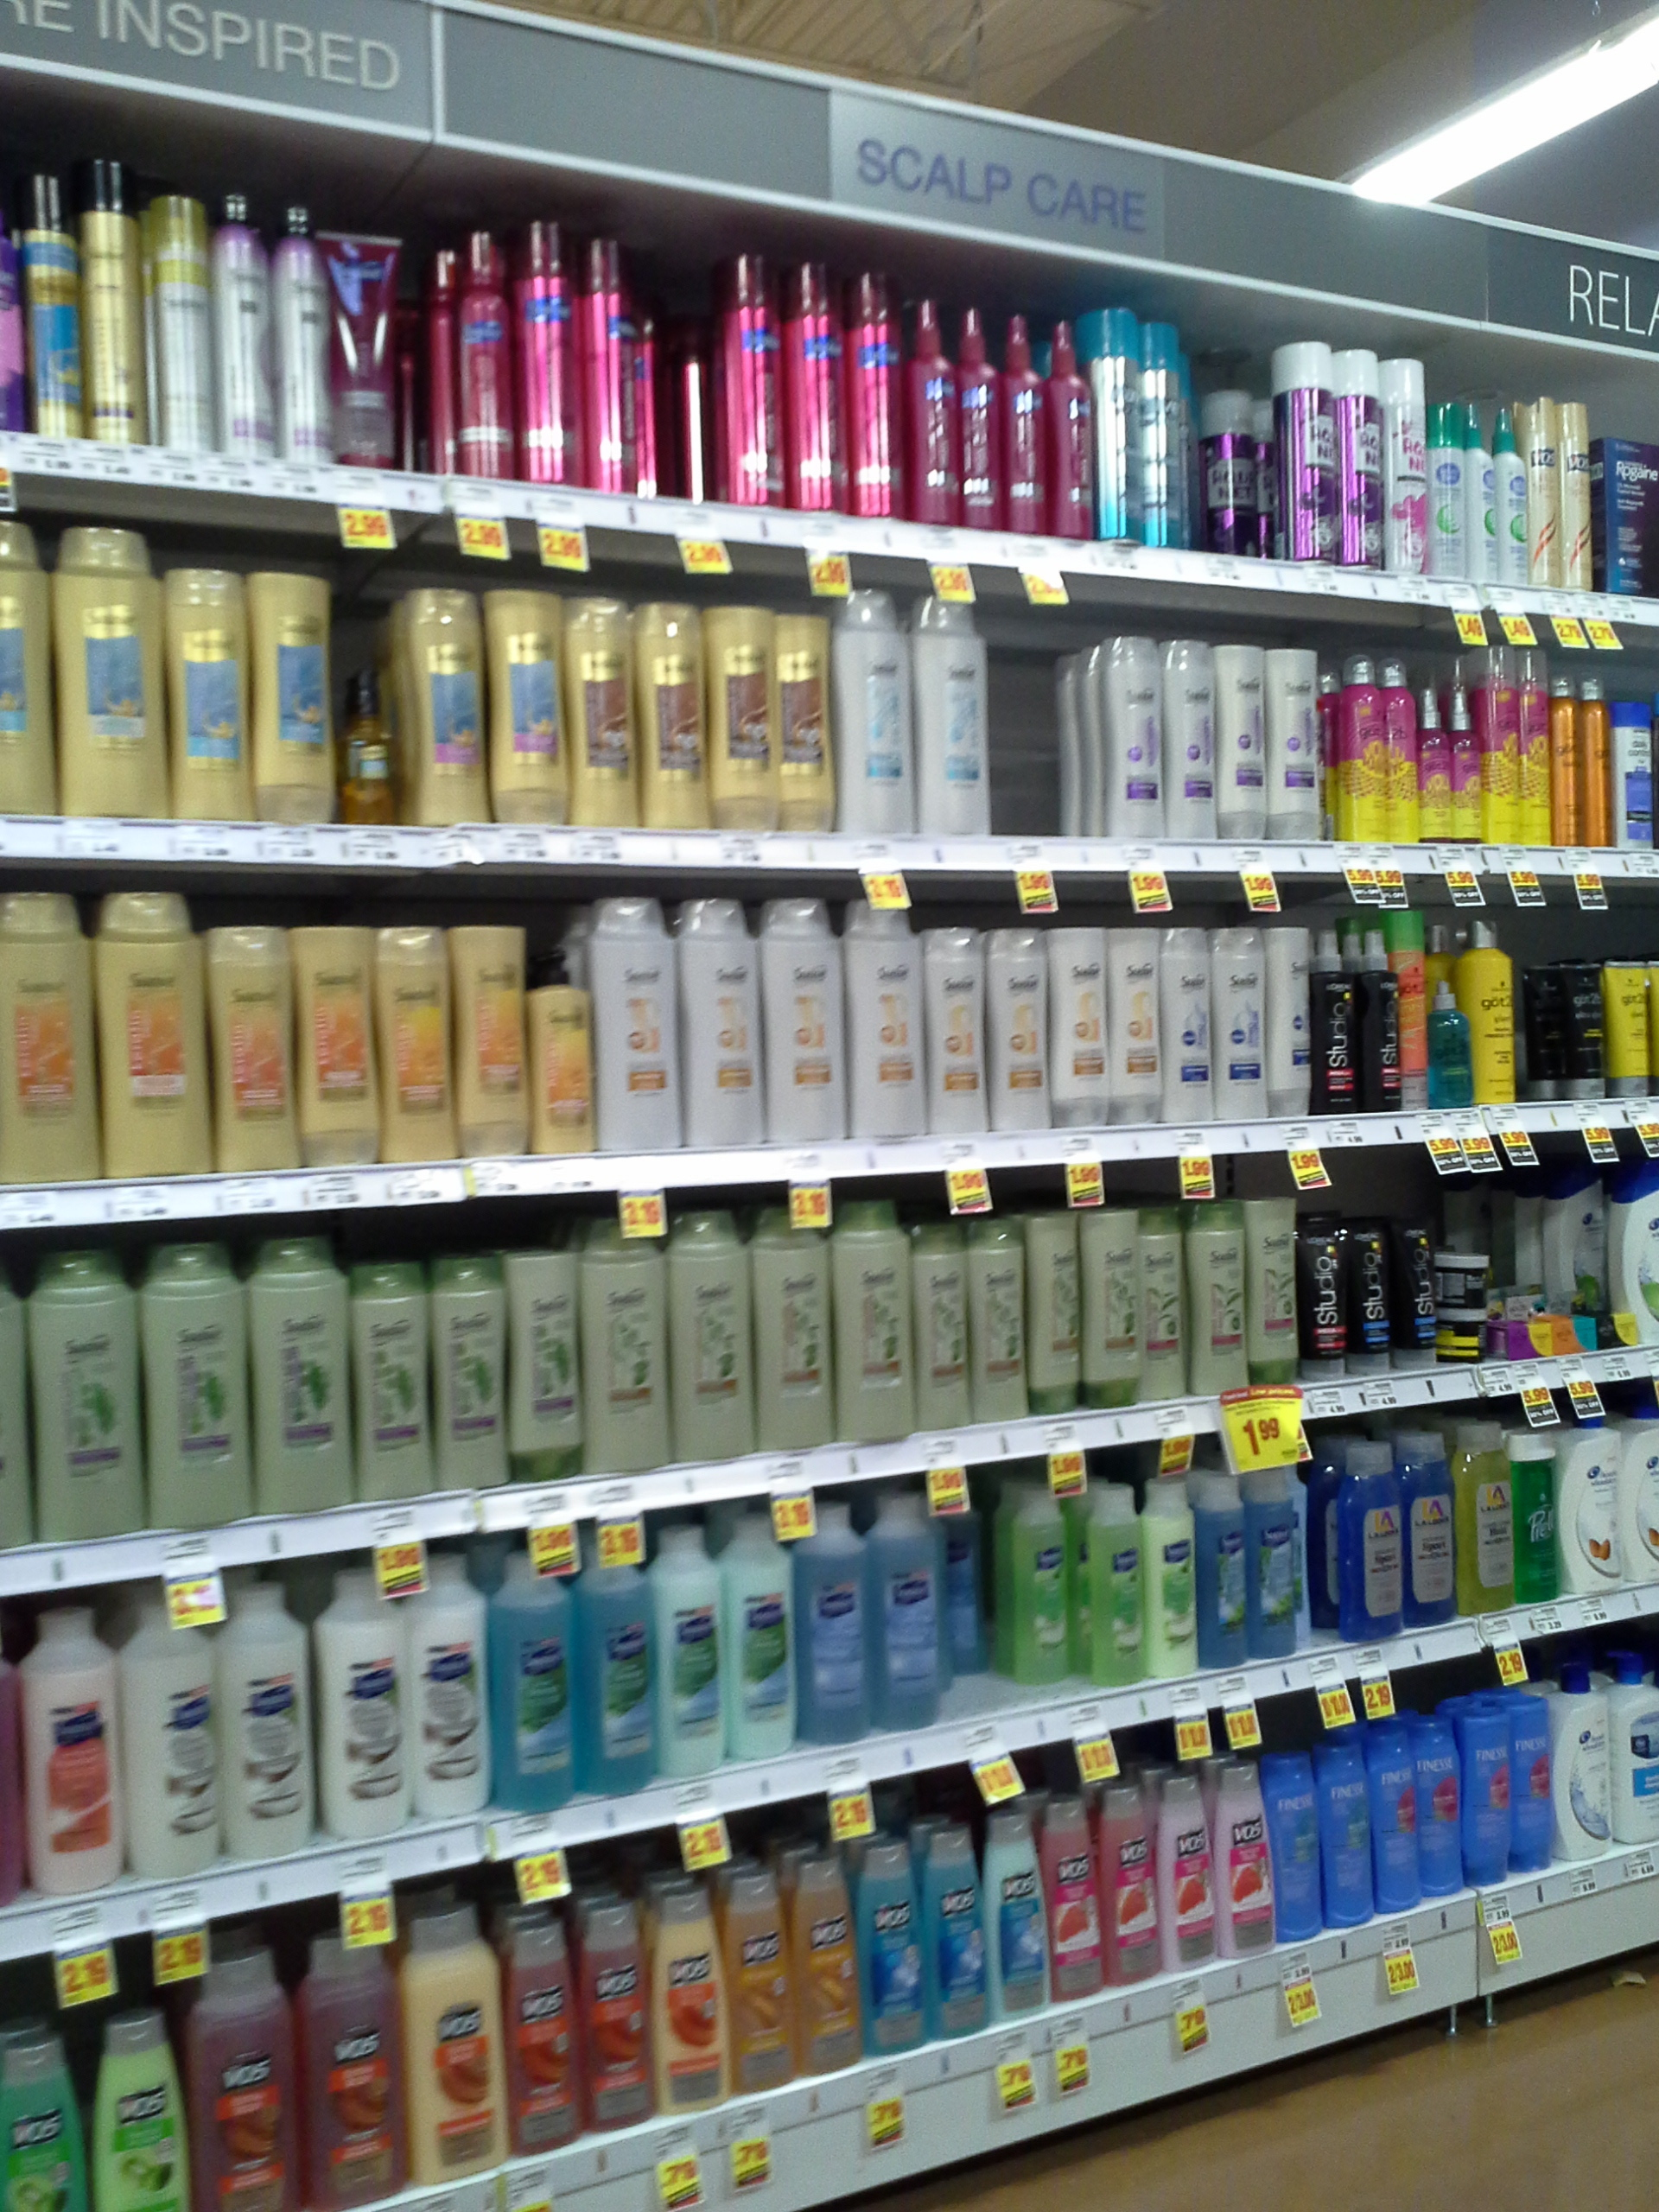product: (96, 885, 206, 1177), (54, 521, 162, 817), (28, 1244, 134, 1533), (139, 1245, 244, 1534), (195, 1949, 305, 2207), (404, 1905, 502, 2191), (19, 1611, 117, 1895), (249, 1244, 352, 1507), (0, 888, 91, 1184), (118, 1599, 209, 1892), (216, 1594, 314, 1853), (308, 1930, 399, 2195), (486, 1545, 575, 1808), (575, 1224, 673, 1463), (207, 927, 300, 1176), (324, 1568, 403, 1846), (251, 568, 335, 827), (404, 1562, 486, 1825), (598, 895, 680, 1150), (91, 2017, 195, 2212), (836, 583, 917, 836), (840, 897, 925, 1132), (167, 568, 246, 820), (406, 585, 488, 824), (575, 1534, 650, 1794), (864, 1486, 945, 1726), (762, 895, 838, 1144), (714, 251, 789, 505), (718, 1512, 796, 1750), (301, 927, 380, 1162), (685, 895, 758, 1146), (924, 585, 997, 834), (751, 1212, 831, 1439), (430, 1258, 507, 1493), (493, 585, 566, 827), (674, 1216, 746, 1463), (146, 190, 213, 451), (357, 1259, 429, 1501), (831, 1202, 903, 1442), (382, 927, 455, 1160), (579, 1904, 648, 2141), (84, 155, 141, 439), (518, 211, 577, 486), (507, 1912, 577, 2146), (509, 1247, 575, 1491), (570, 594, 640, 826), (457, 923, 525, 1157), (216, 193, 275, 458), (653, 1524, 711, 1789), (333, 230, 397, 465), (640, 601, 704, 831), (657, 1890, 727, 2102), (708, 601, 774, 824), (0, 2036, 85, 2209), (582, 230, 638, 493), (802, 1500, 861, 1745), (0, 521, 49, 819), (849, 268, 906, 521), (791, 256, 847, 516), (997, 1484, 1068, 1686), (1270, 345, 1335, 566), (1075, 1480, 1145, 1683), (275, 206, 331, 456), (457, 223, 512, 474), (857, 1843, 925, 2048), (28, 167, 80, 434), (730, 1871, 789, 2099), (528, 946, 592, 1155), (910, 1217, 972, 1432), (1087, 303, 1143, 542), (793, 1862, 857, 2067), (1042, 1801, 1107, 1998), (986, 923, 1047, 1130), (1148, 1775, 1215, 1965), (775, 608, 831, 831), (1019, 1212, 1082, 1407), (1053, 925, 1112, 1130), (927, 1829, 986, 2031), (988, 1813, 1042, 2033), (927, 927, 985, 1132), (1108, 637, 1164, 843), (1345, 1440, 1403, 1637), (1086, 1209, 1141, 1407), (1561, 1413, 1624, 1588), (1215, 916, 1267, 1123), (1112, 923, 1166, 1123), (1215, 643, 1269, 843), (1199, 387, 1263, 554), (1554, 1667, 1607, 1872), (1455, 1421, 1509, 1613), (1147, 314, 1190, 550), (1270, 644, 1323, 841), (913, 294, 958, 521), (1164, 637, 1215, 840), (1338, 345, 1384, 570), (1352, 918, 1403, 1116), (1192, 1202, 1244, 1393), (1269, 1750, 1321, 1940), (974, 1216, 1019, 1432), (1364, 1726, 1419, 1907), (1166, 923, 1213, 1123), (1197, 1474, 1248, 1660), (1249, 1461, 1298, 1651), (1269, 918, 1314, 1120), (1603, 434, 1659, 597), (1462, 1707, 1514, 1881), (964, 301, 1002, 533), (1249, 1200, 1295, 1393), (340, 667, 396, 824), (1615, 1646, 1659, 1846), (1466, 918, 1511, 1106), (1046, 314, 1084, 533), (1215, 1763, 1258, 1954), (1007, 310, 1044, 535), (1420, 1710, 1462, 1905), (1152, 1480, 1192, 1681), (1300, 1207, 1345, 1383), (1143, 1205, 1185, 1395), (1410, 1435, 1452, 1625), (1342, 651, 1384, 840), (1387, 361, 1424, 575), (1324, 1738, 1364, 1933), (1614, 1165, 1659, 1332), (946, 1498, 988, 1677), (1314, 916, 1351, 1118), (1391, 1219, 1438, 1371), (1114, 1782, 1147, 1994), (1516, 1430, 1556, 1602), (669, 314, 706, 498), (1518, 1702, 1556, 1876), (1527, 397, 1561, 587), (1486, 651, 1521, 841), (1605, 958, 1652, 1097), (1565, 401, 1598, 592), (1427, 401, 1462, 577), (1464, 399, 1497, 582), (1354, 1221, 1391, 1383), (1621, 697, 1657, 852), (1521, 960, 1561, 1097), (1523, 646, 1551, 843), (1391, 657, 1420, 841), (1401, 916, 1427, 1116), (1565, 960, 1603, 1096), (1628, 1407, 1657, 1578), (1452, 685, 1483, 843), (1427, 975, 1466, 1104), (1556, 672, 1584, 845), (1499, 401, 1525, 582), (1588, 672, 1614, 852), (1420, 679, 1448, 841), (1488, 1292, 1540, 1360), (1441, 1308, 1486, 1369), (1441, 1251, 1481, 1301), (1547, 1317, 1586, 1357)
